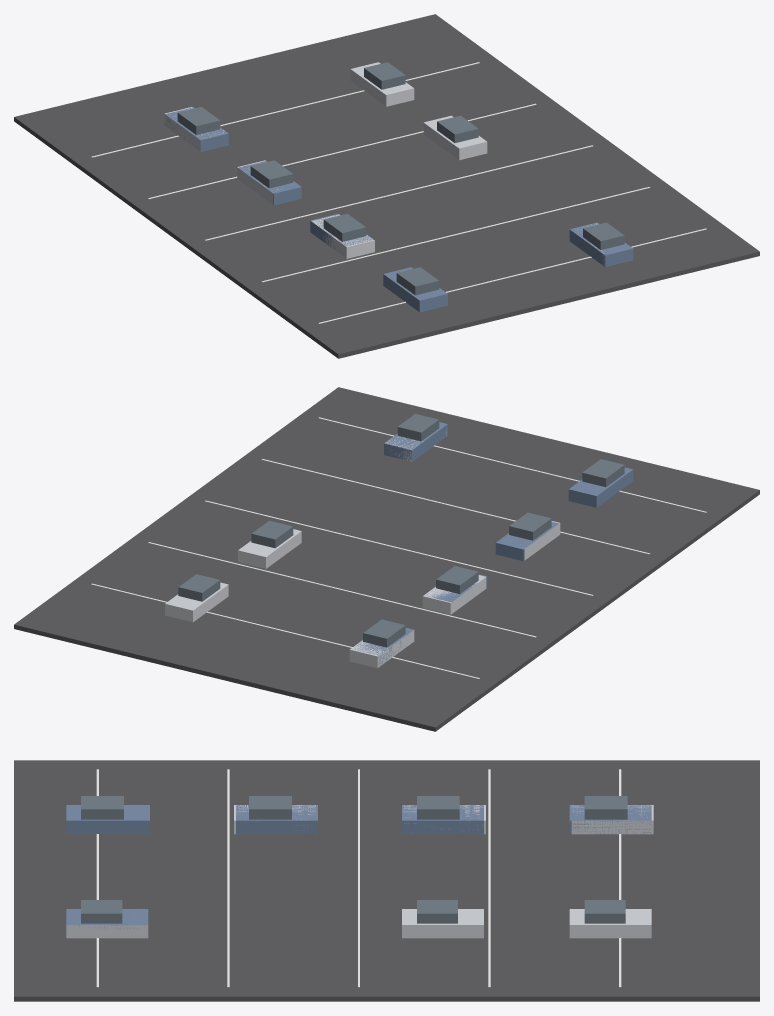
File: parking.glb
The picture shows the model from 3 angles, top to bottom: view 1: azimuth 30°, elevation 25°; view 2: azimuth 150°, elevation 25°; view 3: azimuth 270°, elevation 25°; orthographic projection. The views are drawn at different scales.
Parts seen in each view (by area): view 1: Cube, Cube.007, Cube.001, Cube.006, Cube.012, Cube.008, Cube.020, Cube.014; view 2: Cube, Cube.007, Cube.001, Cube.012, Cube.008, Cube.020, Cube.006; view 3: Cube, Cube.007, Cube.012, Cube.006, Cube.008, Cube.001.
Part boxes in pixels (bbox=[...]): Cube: bbox=[14, 14, 759, 358]; Cube.007: bbox=[177, 62, 624, 295]; Cube.001: bbox=[91, 62, 706, 323]; Cube.006: bbox=[165, 107, 447, 312]; Cube.012: bbox=[164, 62, 604, 266]; Cube.008: bbox=[310, 213, 633, 311]; Cube.020: bbox=[165, 108, 277, 204]; Cube.014: bbox=[311, 214, 374, 258]; Cube: bbox=[14, 387, 759, 731]; Cube.007: bbox=[178, 414, 624, 647]; Cube.001: bbox=[91, 417, 706, 678]; Cube.012: bbox=[165, 429, 446, 668]; Cube.008: bbox=[384, 422, 629, 561]; Cube.020: bbox=[353, 575, 486, 666]; Cube.006: bbox=[354, 467, 633, 666]; Cube: bbox=[14, 760, 759, 1001]; Cube.007: bbox=[81, 796, 627, 923]; Cube.012: bbox=[66, 805, 653, 938]; Cube.006: bbox=[66, 805, 651, 834]; Cube.008: bbox=[66, 805, 317, 929]; Cube.001: bbox=[96, 769, 621, 987].
Bounding box in the file's own units: 30 × 1.7 × 40.
